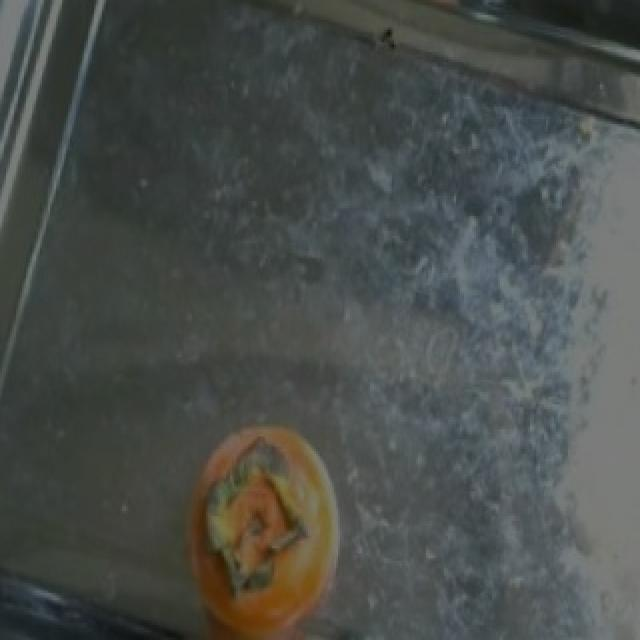Fruit: (162, 402, 364, 640)
